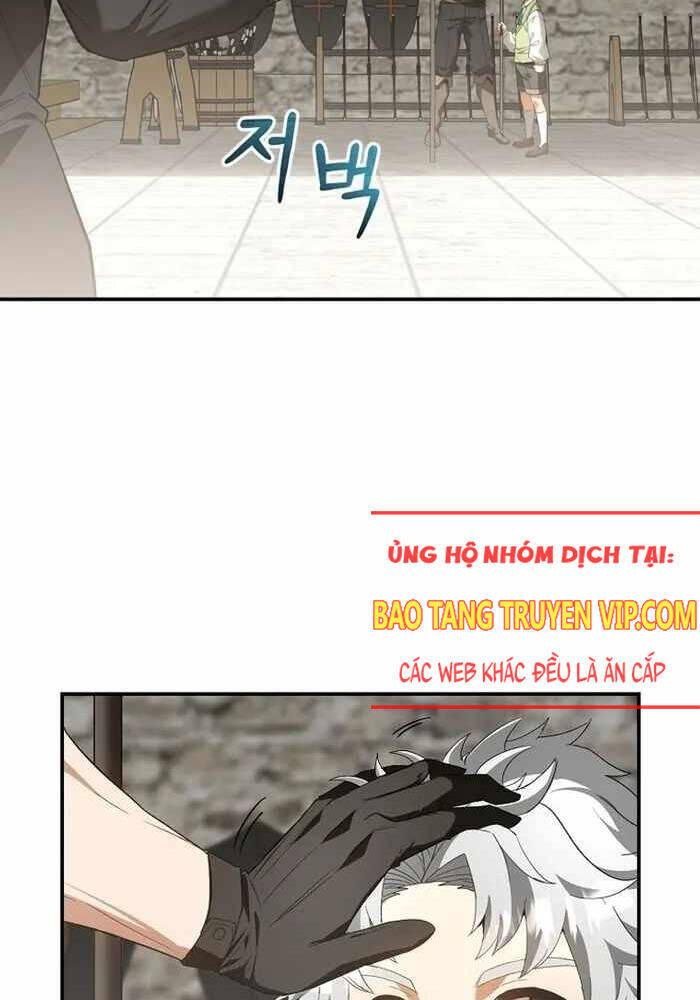quangcao: (367, 503, 700, 713)
